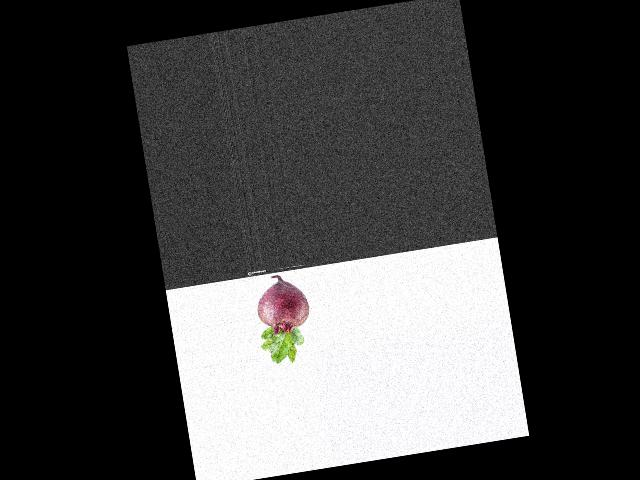beet: (250, 271, 317, 367)
